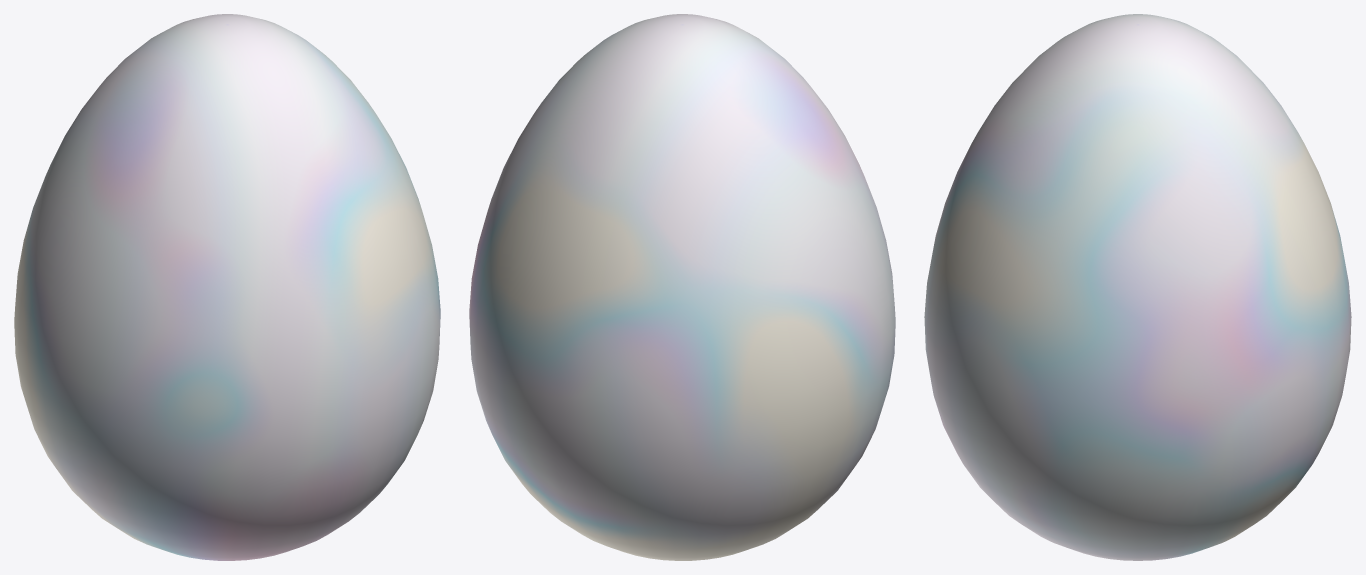
Rendered from moon_mouse.fbx.
The picture shows the model from 3 angles, left to right: view 1: azimuth 30°, elevation 25°; view 2: azimuth 150°, elevation 25°; view 3: azimuth 270°, elevation 25°; orthographic projection.
Visible parts, largest first — view 1: moon_mouse_Shell; view 2: moon_mouse_Shell; view 3: moon_mouse_Shell.
Part boxes in pixels (left/top/right/bottom): moon_mouse_Shell: left=14, top=14, right=440, bottom=560; moon_mouse_Shell: left=469, top=14, right=895, bottom=560; moon_mouse_Shell: left=924, top=14, right=1351, bottom=560.
Bounding box in the file's own units: 2.25 × 3 × 2.25.
Materials: 1 (1 with a texture image).
